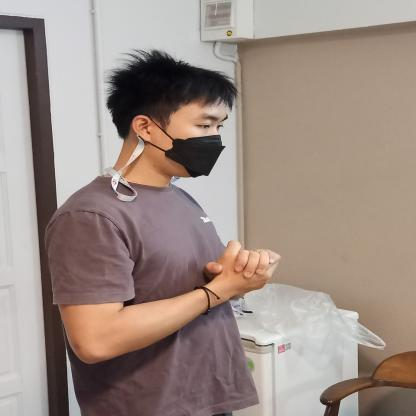Grieve: (183, 230, 288, 313)
